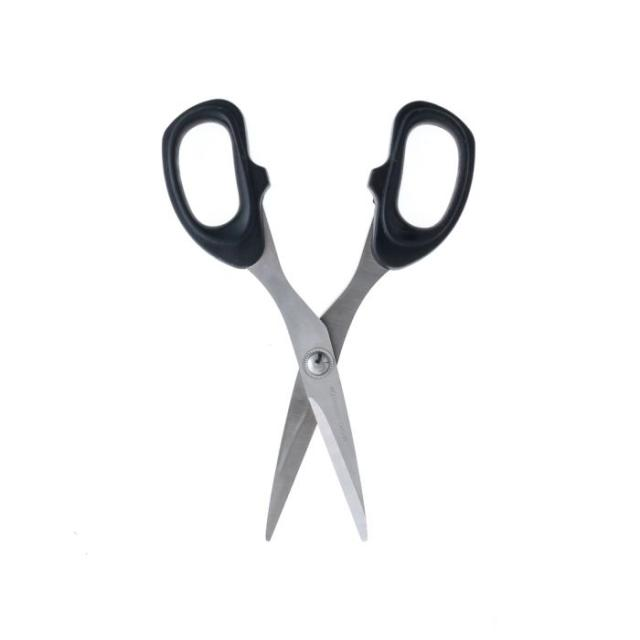scissor: (133, 87, 486, 538)
